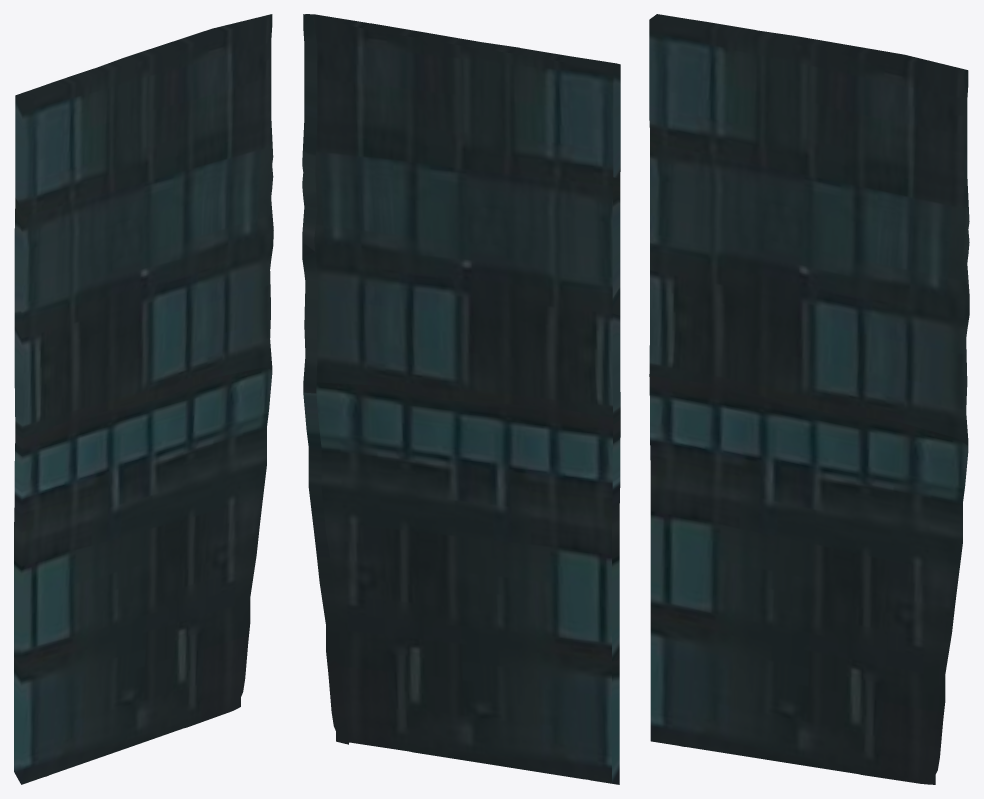
Rendered from z20-167773-405236-h1-yup-uvflip-v3-world.glb.
3 views of the same model, side by side, from view 1: azimuth 30°, elevation 25°; view 2: azimuth 150°, elevation 25°; view 3: azimuth 330°, elevation 25° (orthographic). The views are drawn at different scales.
Size of the model in its own units: 10.68 by 25.24 by 1.76.
Materials: 1 (1 with a texture image).
